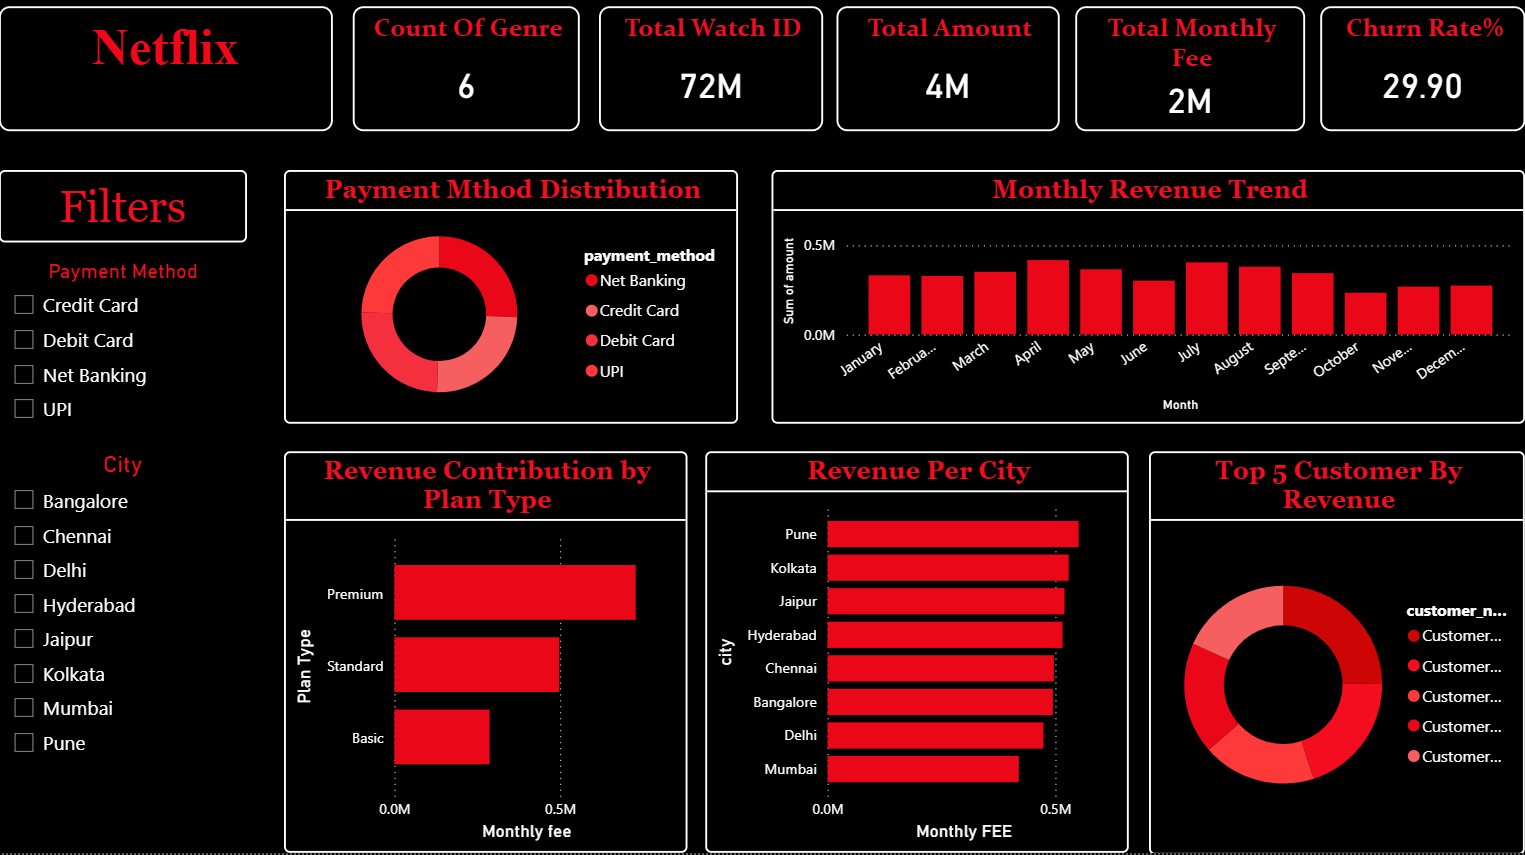

The page's visual inventory and layout, read from the dashboard file:
{"tool":"powerbi","page":{"name":"Page 1","canvas":[1280,720],"ordinal":0},"visuals":[{"type":"textbox","box":[0,9.3,280.2,104.7],"z":0},{"type":"card","title":"Total Amount","fields":{"Values":["Streaming Customers.Total Amount"]},"box":[702.3,9.3,187.2,104.7],"z":1},{"type":"card","title":"Total Monthly Fee","fields":{"Values":["Streaming Subscriptions.monthly_fee"]},"box":[902.3,9.3,193,104.7],"z":2},{"type":"card","title":"Total Watch ID","fields":{"Values":["Streaming Watch History.watch_id"]},"box":[503.5,9.3,188.4,104.7],"z":3},{"type":"card","title":"Count Of Genre","fields":{"Values":["Streaming Watch History.genre"]},"box":[296.5,9.3,190.7,104.7],"z":4},{"type":"slicer","title":"Payment Method","fields":{"Values":["Streaming Payments.payment_method"]},"box":[0,220.9,208.1,150],"z":5},{"type":"textbox","box":[0,146.5,208.1,60.5],"z":6},{"type":"slicer","title":"City","fields":{"Values":["Streaming Customers.city"]},"box":[0,382.6,208.1,337.2],"z":7},{"type":"donutChart","title":"Payment Mthod Distribution","fields":{"Category":["Streaming Payments.payment_method"],"Y":["Streaming Payments.amount"]},"box":[238.6,147,381,212.6],"z":8},{"type":"clusteredBarChart","title":"Revenue Contribution by Plan Type","fields":{"Category":["Streaming Subscriptions.plan_type"],"Y":["Streaming Subscriptions.monthly_fee"]},"box":[238.6,382.2,338.1,336.9],"z":9},{"type":"clusteredColumnChart","title":"Monthly Revenue Trend","fields":{"Category":["Streaming Customers.signup_date.Variation.Date Hierarchy.Month"],"Y":["Streaming Payments.amount"]},"box":[647.9,147,632,212.6],"z":10},{"type":"barChart","title":"Revenue Per City","fields":{"Category":["Streaming Customers.city"],"Y":["Streaming Payments.amount"]},"box":[592.5,382.2,355,336.9],"z":11},{"type":"donutChart","title":"Top 5 Customer By Revenue","fields":{"Category":["Streaming Customers.customer_name"],"Y":["Streaming Payments.amount"]},"box":[964.5,382.2,315.5,338.1],"z":12},{"type":"card","title":"Churn Rate%","fields":{"Values":["Streaming Customers.Churn Rate%"]},"box":[1108.1,9.3,172.1,104.7],"z":13}]}

Visuals, with their boxes in screenshot pixels (x1, y1, x2, y2), scaled from the page's 1280x720 canvas onto the 1525x855 screenshot:
textbox: (x1=0, y1=11, x2=334, y2=135)
"Total Amount" card: (x1=837, y1=11, x2=1060, y2=135)
"Total Monthly Fee" card: (x1=1075, y1=11, x2=1305, y2=135)
"Total Watch ID" card: (x1=600, y1=11, x2=824, y2=135)
"Count Of Genre" card: (x1=353, y1=11, x2=580, y2=135)
"Payment Method" slicer: (x1=0, y1=262, x2=248, y2=440)
textbox: (x1=0, y1=174, x2=248, y2=246)
"City" slicer: (x1=0, y1=454, x2=248, y2=854)
"Payment Mthod Distribution" donutChart: (x1=284, y1=175, x2=738, y2=427)
"Revenue Contribution by Plan Type" clusteredBarChart: (x1=284, y1=454, x2=687, y2=854)
"Monthly Revenue Trend" clusteredColumnChart: (x1=772, y1=175, x2=1524, y2=427)
"Revenue Per City" barChart: (x1=706, y1=454, x2=1129, y2=854)
"Top 5 Customer By Revenue" donutChart: (x1=1149, y1=454, x2=1524, y2=854)
"Churn Rate%" card: (x1=1320, y1=11, x2=1524, y2=135)
